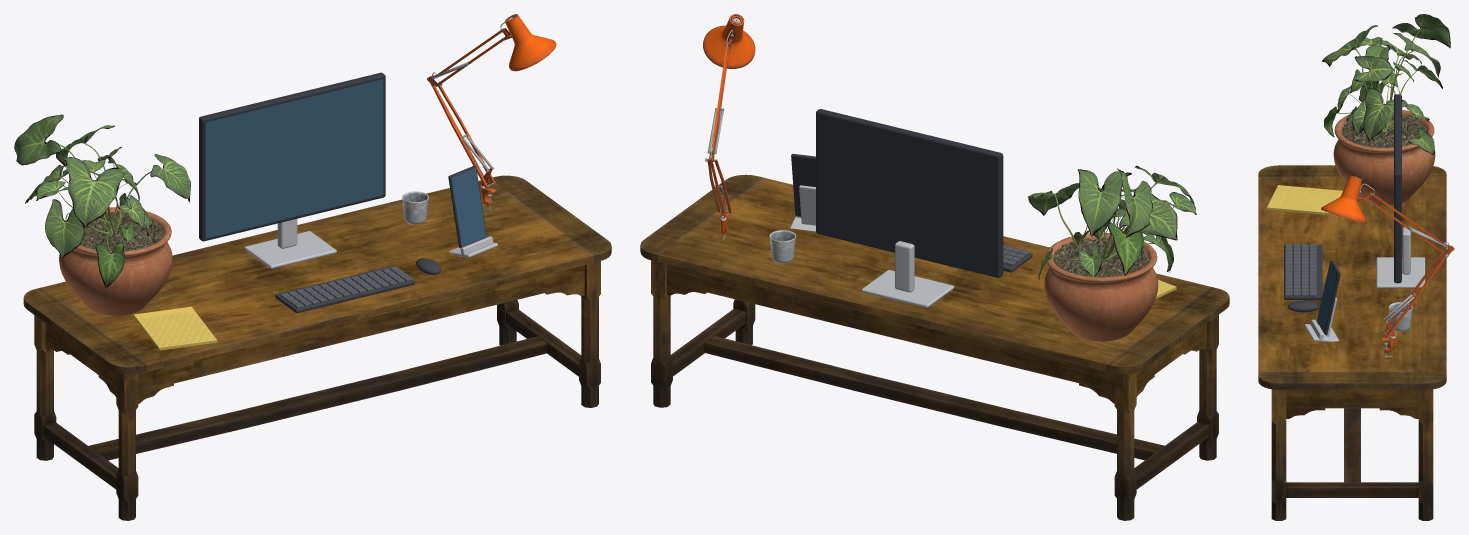
3 views of the same model, side by side, from view 1: azimuth 30°, elevation 25°; view 2: azimuth 150°, elevation 25°; view 3: azimuth 270°, elevation 25° (orthographic). The views are drawn at different scales.
Visible parts, largest first — view 1: WoodenTable_01, ecran_moniteur, potted_plant_02_leaves, potted_plant_02_pot, desk_lamp_arm_01, coque, office_notepads_yellow_pad, touche, ecran_telephone, potted_plant_02_dirt, socle, base (+1 smaller); view 2: WoodenTable_01, coque, potted_plant_02_leaves, potted_plant_02_pot, desk_lamp_arm_01, potted_plant_02_dirt, socle, pied, coque_tel, stationery_supplies_pencilcup; view 3: WoodenTable_01, potted_plant_02_leaves, potted_plant_02_pot, desk_lamp_arm_01, touche, office_notepads_yellow_pad, coque, potted_plant_02_dirt, socle, base, ecran_telephone, pied (+4 smaller).
Boxes of the visible parts, <box> form: WoodenTable_01: <box>23,175,611,520</box>; ecran_moniteur: <box>206,79,383,238</box>; potted_plant_02_leaves: <box>14,114,190,287</box>; potted_plant_02_pot: <box>59,207,172,315</box>; desk_lamp_arm_01: <box>427,14,556,211</box>; coque: <box>199,72,385,241</box>; office_notepads_yellow_pad: <box>133,306,217,350</box>; touche: <box>280,266,412,308</box>; ecran_telephone: <box>451,167,486,246</box>; potted_plant_02_dirt: <box>80,210,164,251</box>; socle: <box>244,231,336,268</box>; base: <box>275,265,414,313</box>; WoodenTable_01: <box>640,174,1229,520</box>; coque: <box>816,109,1003,277</box>; potted_plant_02_leaves: <box>1028,165,1196,279</box>; potted_plant_02_pot: <box>1044,233,1158,341</box>; desk_lamp_arm_01: <box>703,14,755,240</box>; potted_plant_02_dirt: <box>1053,237,1149,277</box>; socle: <box>861,270,954,307</box>; pied: <box>895,241,914,292</box>; coque_tel: <box>791,153,815,216</box>; stationery_supplies_pencilcup: <box>769,230,796,263</box>; WoodenTable_01: <box>1258,165,1446,520</box>; potted_plant_02_leaves: <box>1322,14,1450,155</box>; potted_plant_02_pot: <box>1333,109,1435,205</box>; desk_lamp_arm_01: <box>1321,175,1454,357</box>; touche: <box>1285,244,1316,296</box>; office_notepads_yellow_pad: <box>1267,185,1342,215</box>; coque: <box>1394,94,1401,283</box>; potted_plant_02_dirt: <box>1342,114,1426,147</box>; socle: <box>1376,257,1425,288</box>; base: <box>1284,245,1322,299</box>; ecran_telephone: <box>1317,262,1337,332</box>; pied: <box>1402,227,1410,274</box>.
Bounding box in the file's own units: 1.88 × 1.26 × 0.6852.
Materials: 13 (7 with a texture image).
